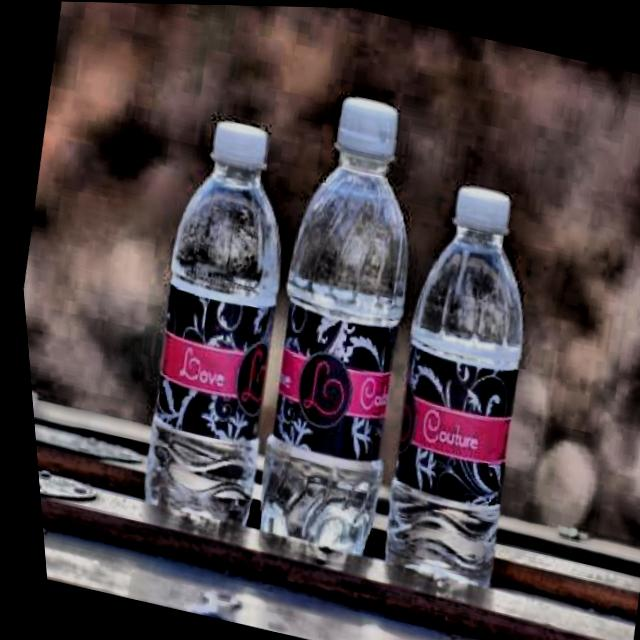Bottles: (199, 67, 478, 582), (65, 67, 340, 559), (335, 146, 583, 604)
